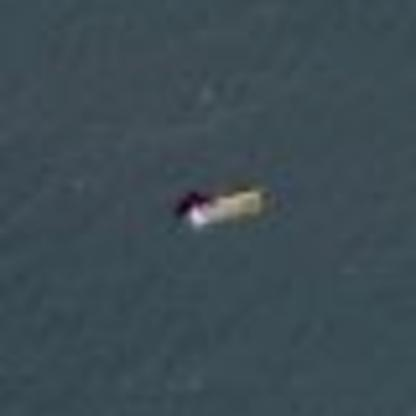ship: (166, 172, 281, 236)
